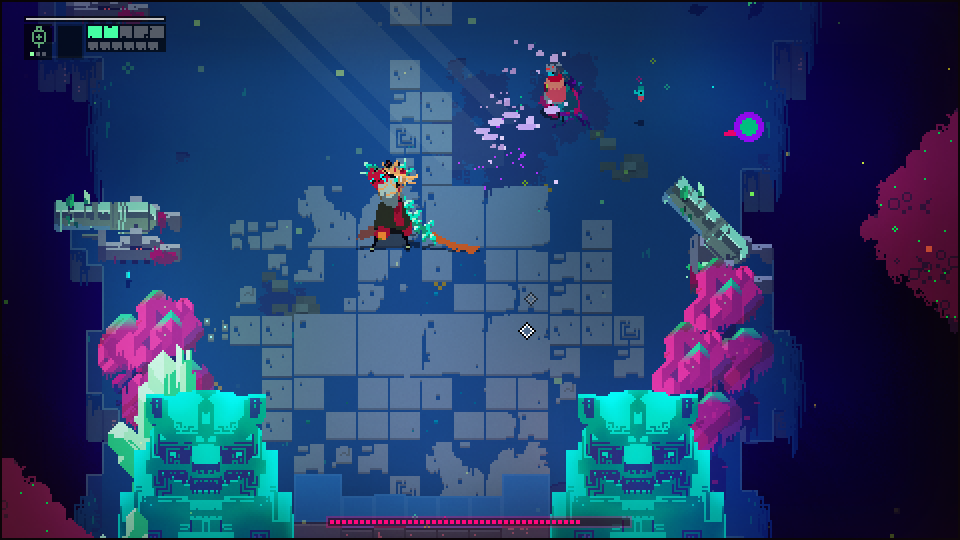hanged_man: (359, 151, 444, 253)
hanged_shot: (733, 110, 765, 145)
player: (540, 59, 568, 116)
